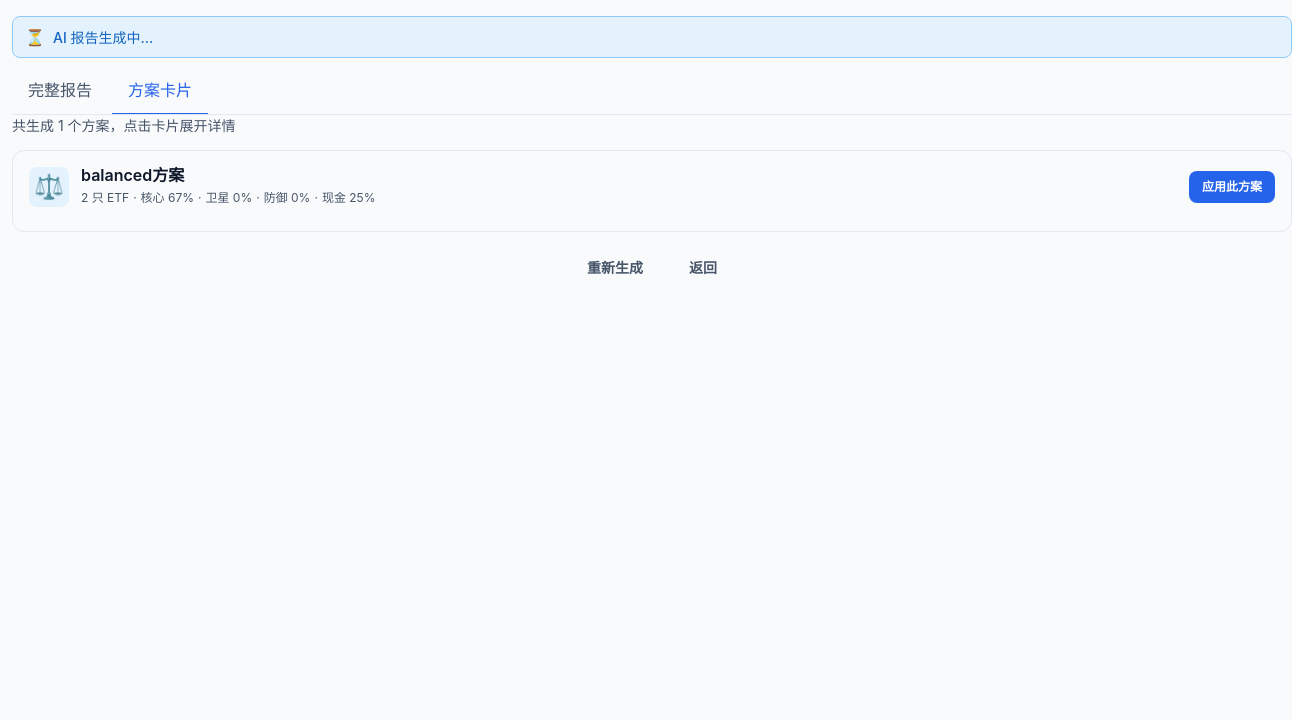
Test: DesignResult round25 R41-b 近替代品告警 › near_substitute 条目渲染（含族/对信息）
Click the element with class "plan-card" at (652, 191), box [12, 150, 1291, 232]
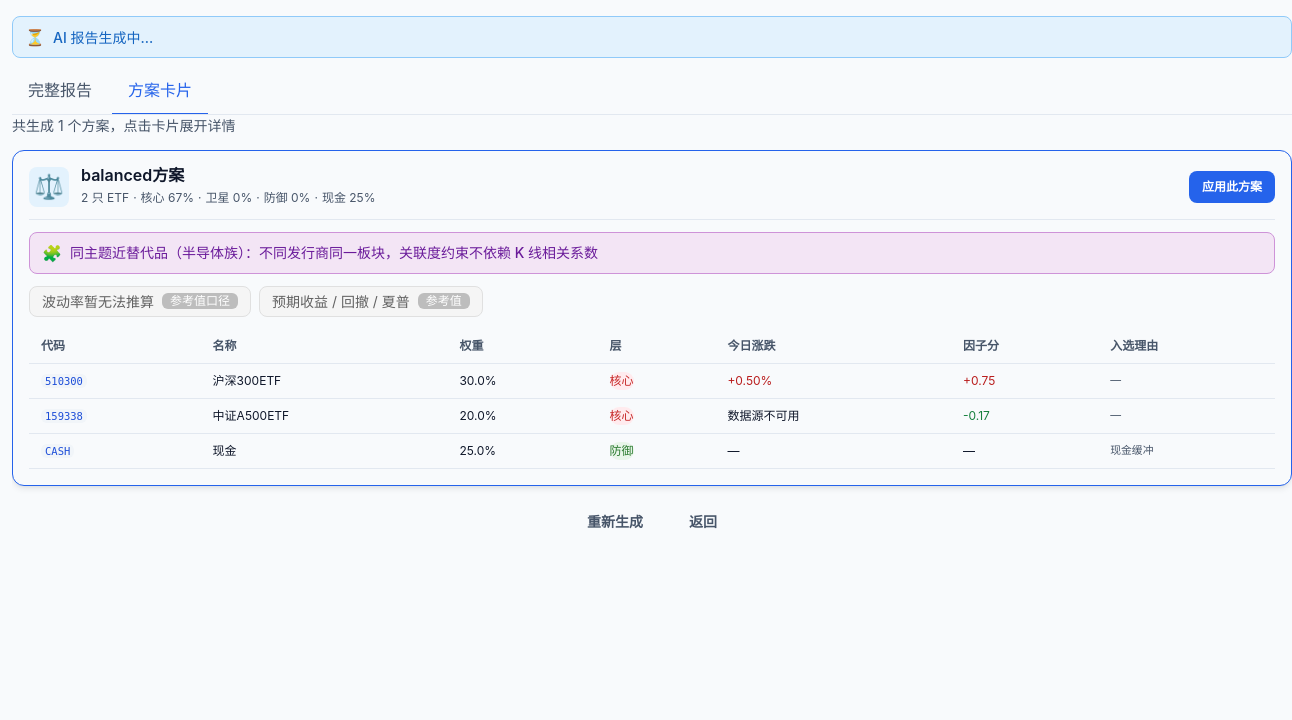
expect the message with class "corr-substitute-note" shows "半导体": met, box [29, 232, 1275, 274]
expect the message with class "corr-substitute-note" shows "近替代品": met, box [70, 244, 598, 261]
